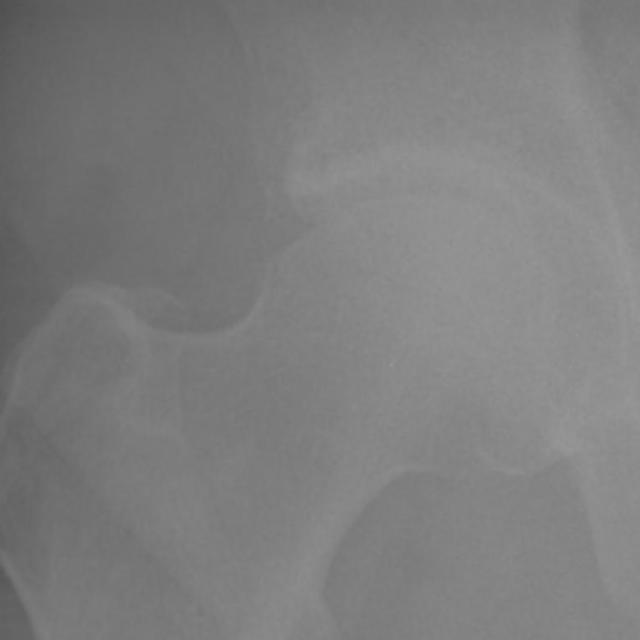Fitted_femural_head: (304, 186, 432, 304)
